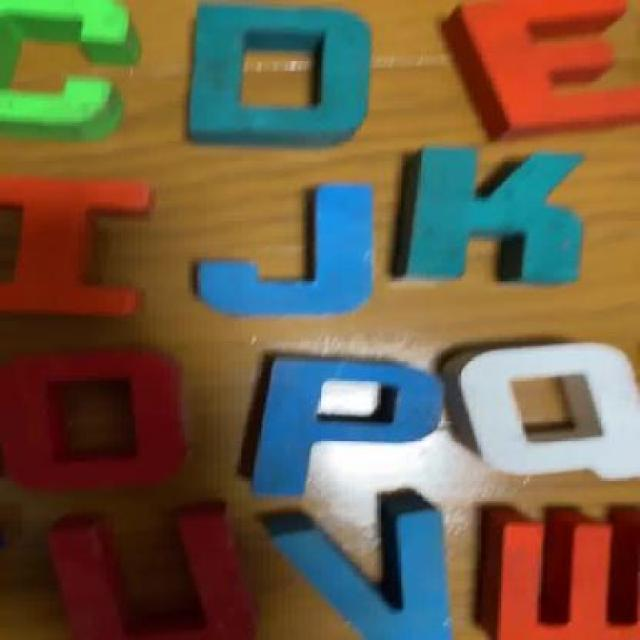D: (178, 2, 380, 148)
E: (438, 0, 639, 143)
I: (0, 169, 155, 324)
J: (195, 180, 377, 322)
K: (398, 146, 593, 289)
O: (1, 341, 184, 494)
P: (245, 354, 449, 506)
Q: (448, 342, 640, 480)
V: (272, 499, 450, 638)
